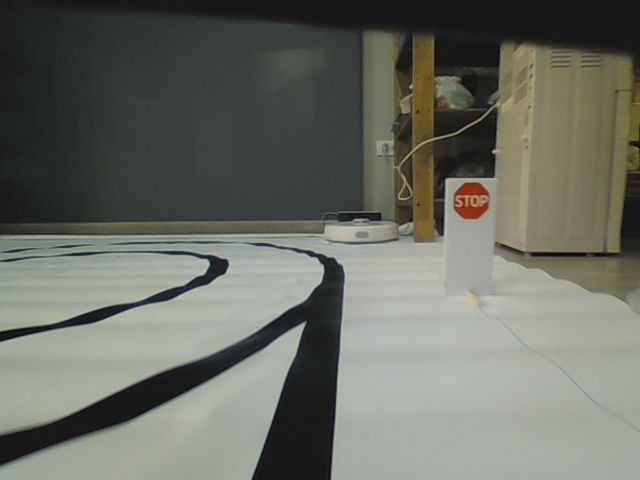Stop: (450, 179, 491, 221)
